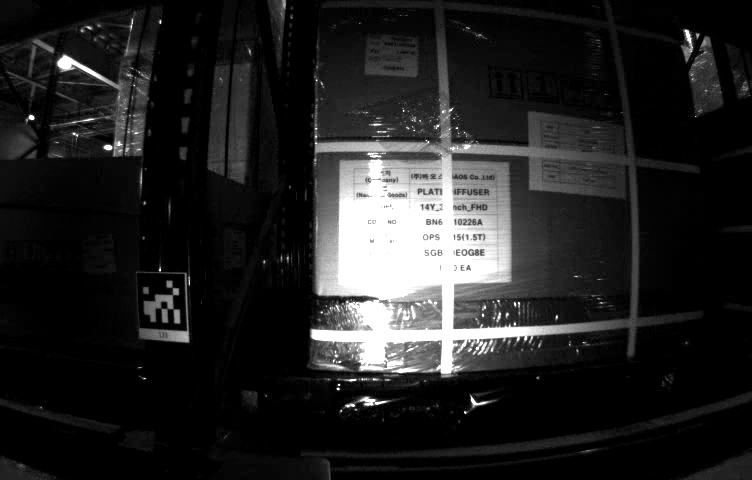True Barcode: (366, 33, 421, 79), (84, 234, 116, 272)
